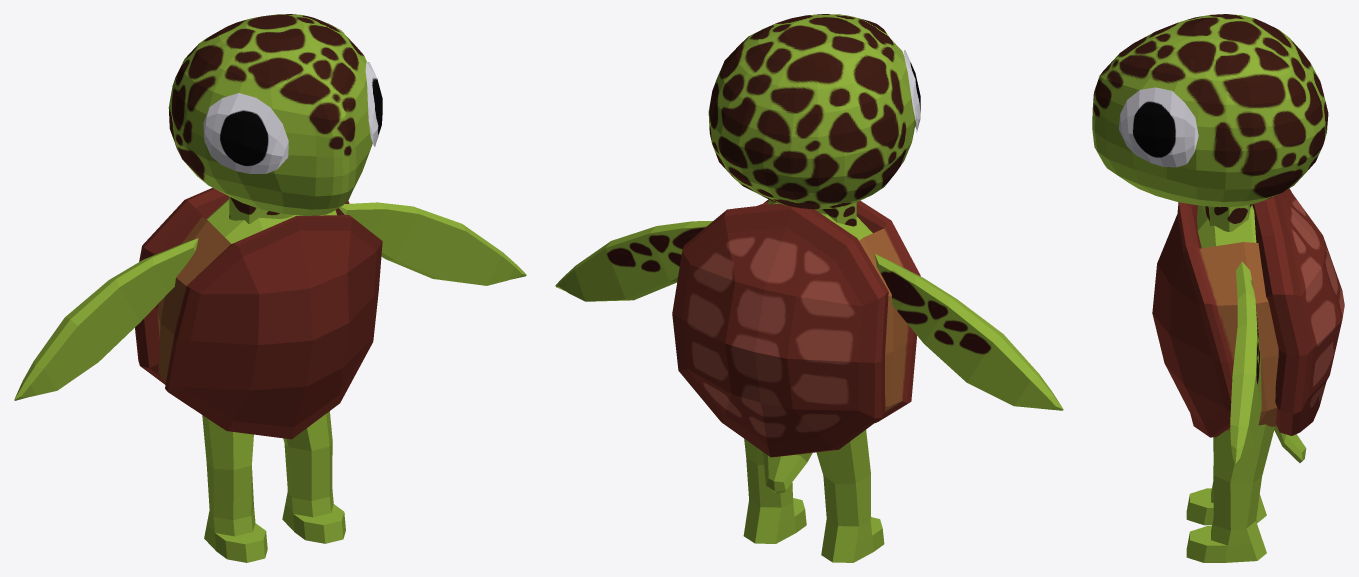
File: Tortuga01.fbx
3 views of the same model, side by side, from view 1: azimuth 30°, elevation 25°; view 2: azimuth 150°, elevation 25°; view 3: azimuth 270°, elevation 25° (orthographic).
Visible parts, largest first — view 1: rabo.001; view 2: rabo.001; view 3: rabo.001.
Part boxes in pixels (x1=…): rabo.001: x1=14, y1=14, x2=526, y2=562; rabo.001: x1=555, y1=14, x2=1063, y2=562; rabo.001: x1=1092, y1=14, x2=1344, y2=562.
Size of the model in its own units: 482 by 459 by 208.
